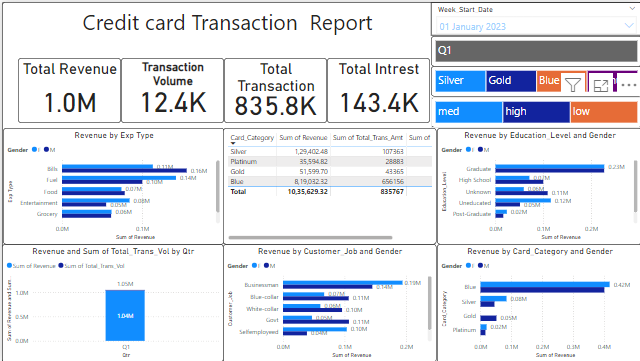

The dashboard page shown, as its layout file describes it:
{"tool":"powerbi","page":{"name":"CC Transaction","canvas":[1280,720],"ordinal":1},"visuals":[{"type":"textbox","box":[0,0,1280,720],"z":0},{"type":"columnChart","title":" Revenue and Sum of Total_Trans_Vol by Qtr","fields":{"Category":["credit_card.Qtr"],"Y":["Sum(credit_card.Revenue)","Sum(credit_card.Total_Trans_Vol)"]},"box":[0,483.7,442.9,236.7],"z":1000},{"type":"clusteredBarChart","title":"Revenue by Exp Type","fields":{"Category":["credit_card.Exp Type"],"Y":["Sum(credit_card.Revenue)"],"Series":["customer.Gender"]},"box":[2,251,442.9,232.7],"z":2000},{"type":"clusteredBarChart","title":"Revenue by Education_Level and Gender","fields":{"Category":["customer.Education_Level"],"Y":["Sum(credit_card.Revenue)"],"Series":["customer.Gender"]},"box":[869.4,251,410.2,232.7],"z":3000},{"type":"clusteredBarChart","title":" Revenue by Customer_Job and Gender","fields":{"Y":["Sum(credit_card.Revenue)"],"Category":["customer.Customer_Job"],"Series":["customer.Gender"]},"box":[442.9,483.7,426.5,236.7],"z":4000},{"type":"clusteredBarChart","title":" Revenue by Card_Category and Gender","fields":{"Category":["credit_card.Card_Category"],"Y":["Sum(credit_card.Revenue)"],"Series":["customer.Gender"]},"box":[869.4,483.7,410.2,236.7],"z":5000},{"type":"card","title":"Total Revenue","fields":{"Values":["Sum(credit_card.Revenue)"]},"box":[32,112,206,130],"z":6000},{"type":"card","title":"Total Transaction","fields":{"Values":["Sum(credit_card.Total_Trans_Amt)"]},"box":[444,112,206,130],"z":7000},{"type":"card","title":"Total Intrest","fields":{"Values":["Sum(credit_card.Interest_Earned)"]},"box":[650,112,206,130],"z":8000},{"type":"card","title":"Transaction Volume","fields":{"Values":["Sum(credit_card.Total_Trans_Vol)"]},"box":[238,112,206,130],"z":9000},{"type":"tableEx","fields":{"Values":["credit_card.Card_Category","Sum(credit_card.Revenue)","Sum(credit_card.Total_Trans_Amt)","Sum(credit_card.Interest_Earned)"]},"box":[442.9,251,426.5,232.7],"z":10000},{"type":"slicer","fields":{"Values":["credit_card.Week_Start_Date"]},"box":[857.1,0,422.4,67.3],"z":11000},{"type":"treemap","fields":{"Group":["credit_card.Qtr"],"Values":["Avg(credit_card.Client_Num)"]},"box":[857.1,67.3,422.4,61.2],"z":12000},{"type":"treemap","fields":{"Values":["Avg(credit_card.Client_Num)"],"Group":["credit_card.Card_Category"]},"box":[857.1,128.6,422.4,61.2],"z":14000},{"type":"treemap","fields":{"Values":["Avg(credit_card.Client_Num)"],"Group":["customer.IncomeGroup"]},"box":[857.1,189.8,422.4,61.2],"z":15000}]}

Visuals, with their boxes in screenshot pixels (x1, y1, x2, y2), scaled from the page's 1280x720 canvas onto the 640x361 screenshot:
textbox: (0, 0, 639, 360)
" Revenue and Sum of Total_Trans_Vol by Qtr" columnChart: (0, 243, 221, 360)
"Revenue by Exp Type" clusteredBarChart: (1, 126, 222, 243)
"Revenue by Education_Level and Gender" clusteredBarChart: (435, 126, 639, 243)
" Revenue by Customer_Job and Gender" clusteredBarChart: (221, 243, 435, 360)
" Revenue by Card_Category and Gender" clusteredBarChart: (435, 243, 639, 360)
"Total Revenue" card: (16, 56, 119, 121)
"Total Transaction" card: (222, 56, 325, 121)
"Total Intrest" card: (325, 56, 428, 121)
"Transaction Volume" card: (119, 56, 222, 121)
tableEx - credit_card.Card_Category x Sum(credit_card.Revenue): (221, 126, 435, 243)
slicer - credit_card.Week_Start_Date: (429, 0, 639, 34)
treemap - credit_card.Qtr x Avg(credit_card.Client_Num): (429, 34, 639, 64)
treemap - Avg(credit_card.Client_Num) x credit_card.Card_Category: (429, 64, 639, 95)
treemap - Avg(credit_card.Client_Num) x customer.IncomeGroup: (429, 95, 639, 126)
